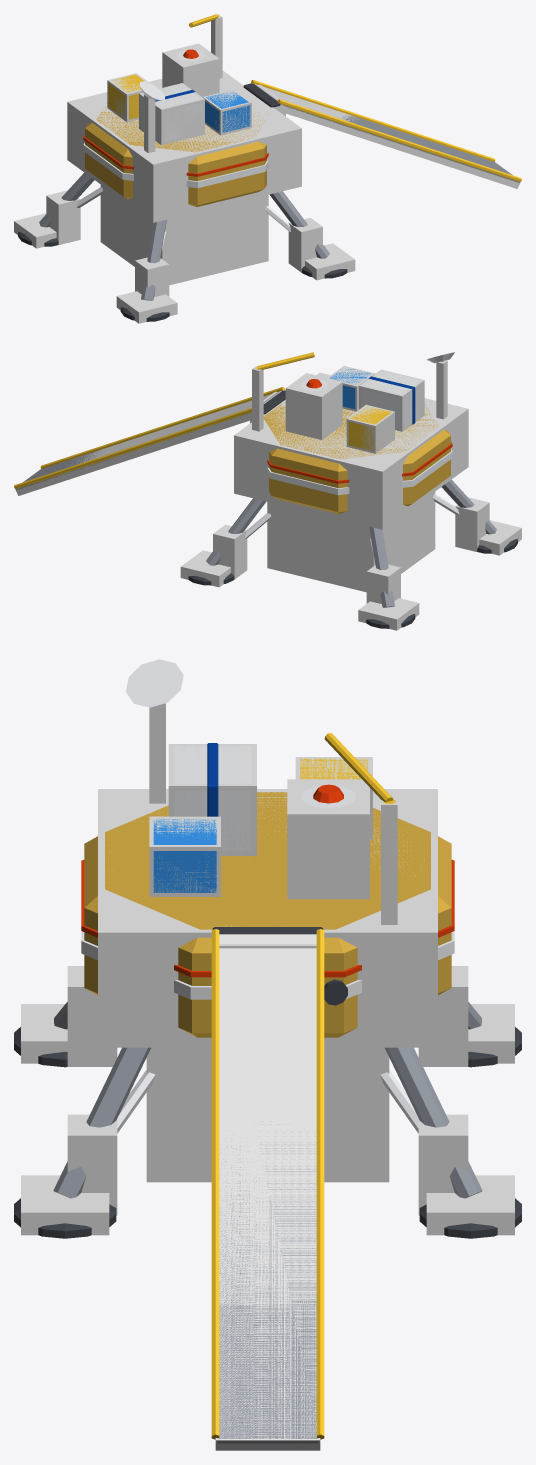
Rendered from CargoLander.glb.
3 renders of one model, top to bottom at view 1: azimuth 30°, elevation 25°; view 2: azimuth 150°, elevation 25°; view 3: azimuth 270°, elevation 25°, orthographic. The views are drawn at different scales.
Parts seen in each view (by area): view 1: COL_RoundBody, COL_Engines, CargoLander_Gold, CargoLander_Grey, CargoLander_White, CargoLander_Yellow, COL_Ramp, COL_CrateA, COL_Tank, COL_LegNW, CargoLander_Sky, COL_LegSE (+10 smaller); view 2: COL_RoundBody, COL_Engines, CargoLander_Gold, CargoLander_Yellow, CargoLander_White, COL_Ramp, COL_Tank, CargoLander_Grey, COL_CrateC, COL_CrateA, COL_LegSW, COL_LegNE (+10 smaller); view 3: COL_Ramp, COL_RoundBody, CargoLander_Gold, CargoLander_Grey, COL_Engines, CargoLander_Yellow, CargoLander_White, COL_Tank, CargoLander_Dark, CargoLander_Sky, COL_PadNE, COL_PadSE (+13 smaller).
Boxes of the visible parts, box(x1,y1,x2,y2) form: COL_RoundBody: box(67, 70, 301, 222); COL_Engines: box(100, 185, 268, 285); CargoLander_Gold: box(85, 103, 267, 206); CargoLander_Grey: box(39, 104, 519, 300); CargoLander_White: box(76, 50, 290, 248); CargoLander_Yellow: box(108, 14, 521, 181); COL_Ramp: box(254, 83, 520, 188); COL_CrateA: box(139, 83, 204, 145); COL_Tank: box(162, 43, 219, 97); COL_LegNW: box(46, 190, 80, 244); CargoLander_Sky: box(205, 91, 250, 132); COL_LegSE: box(288, 217, 322, 272); COL_RoundBody: box(234, 372, 468, 529); COL_Engines: box(267, 492, 435, 592); CargoLander_Gold: box(263, 402, 450, 513); CargoLander_Yellow: box(14, 352, 391, 488); CargoLander_White: box(245, 352, 459, 555); COL_Ramp: box(15, 390, 281, 495); COL_Tank: box(285, 373, 342, 439); CargoLander_Grey: box(16, 361, 496, 607); COL_CrateC: box(346, 404, 394, 453); COL_CrateA: box(359, 369, 424, 431); COL_LegSW: box(455, 497, 489, 551); COL_LegNE: box(213, 524, 247, 579); COL_Ramp: box(215, 934, 320, 1450); COL_RoundBody: box(98, 789, 437, 1047); CargoLander_Gold: box(84, 792, 451, 1037); CargoLander_Grey: box(53, 1002, 482, 1443); COL_Engines: box(146, 1047, 389, 1182); CargoLander_Yellow: box(211, 732, 395, 1439); CargoLander_White: box(81, 659, 454, 1133); COL_Tank: box(287, 779, 369, 899); CargoLander_Dark: box(14, 927, 521, 1238); CargoLander_Sky: box(153, 818, 216, 892); COL_PadNE: box(426, 1175, 514, 1235); COL_PadSE: box(21, 1175, 109, 1235).
Size of the model in its own units: 18.02 by 8.61 by 9.21.
